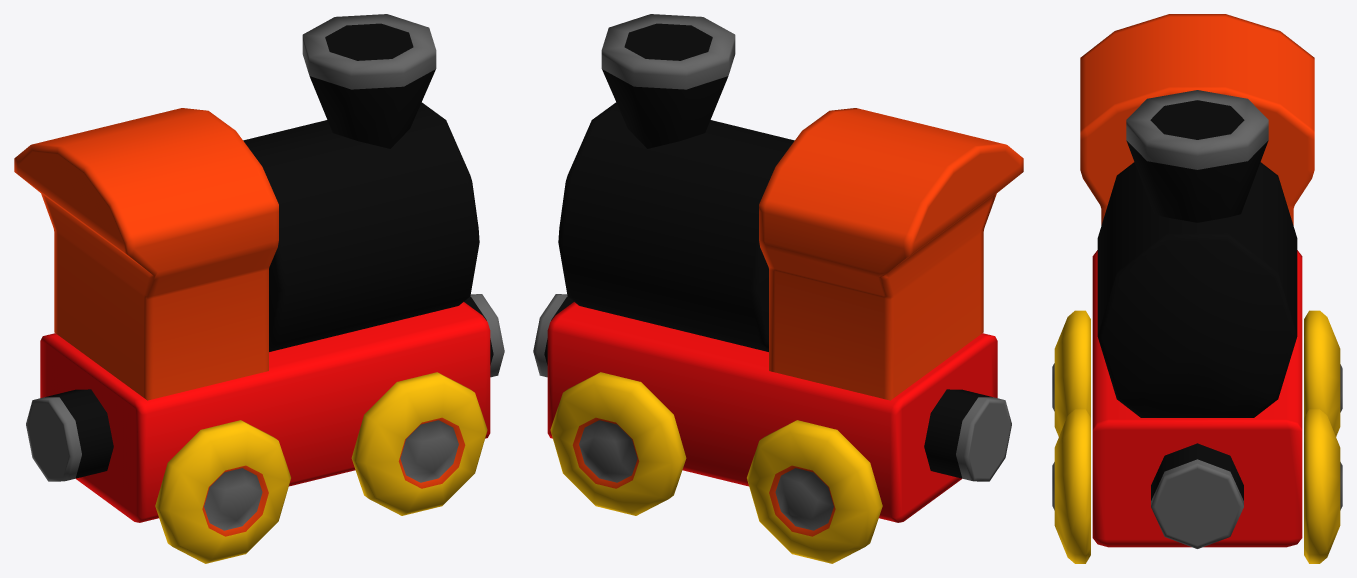
Rendered from train_engine_01.FBX.
3 renders of one model, left to right at view 1: azimuth 30°, elevation 25°; view 2: azimuth 150°, elevation 25°; view 3: azimuth 270°, elevation 25°, orthographic. The views are drawn at different scales.
Visible parts, largest first — view 1: train_engine_01; view 2: train_engine_01; view 3: train_engine_01.
Part boxes in pixels (box(x1,y1,x2,y2)): train_engine_01: box(14, 14, 504, 563); train_engine_01: box(533, 14, 1023, 563); train_engine_01: box(1052, 14, 1342, 563).
Size of the model in its own units: 717 by 670 by 404.
